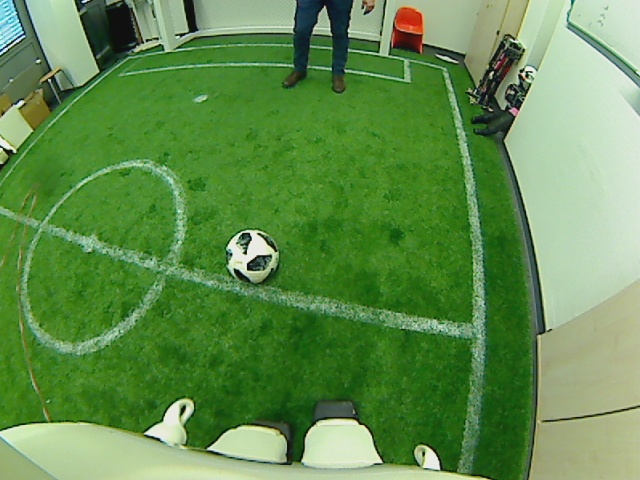ball: (224, 225, 282, 285)
